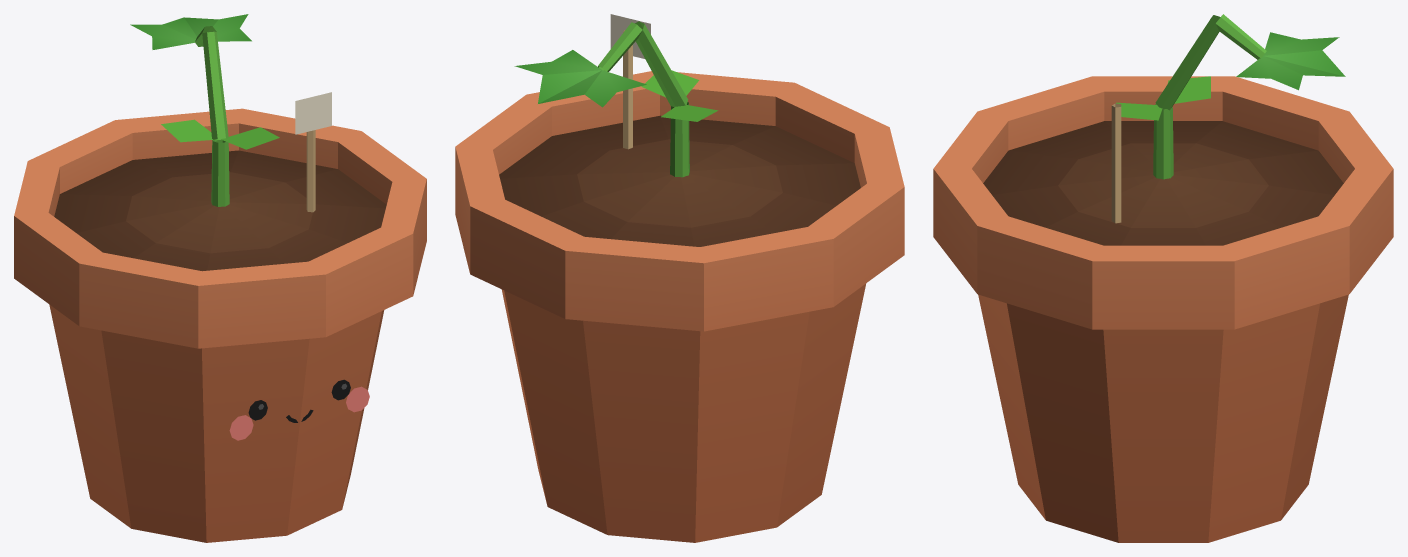
Rendered from cute_zucchini_stage2.glb.
3 renders of one model, left to right at view 1: azimuth 30°, elevation 25°; view 2: azimuth 150°, elevation 25°; view 3: azimuth 270°, elevation 25°, orthographic. The views are drawn at different scales.
Visible parts, largest first — view 1: ZucchiniPlant; view 2: ZucchiniPlant; view 3: ZucchiniPlant.
Boxes of the visible parts, x1,y1,x2,y2 form: ZucchiniPlant: (14,14,426,542); ZucchiniPlant: (455,14,904,542); ZucchiniPlant: (933,14,1393,542).
Bounding box in the file's own units: 0.3766 × 0.453 × 0.396.
